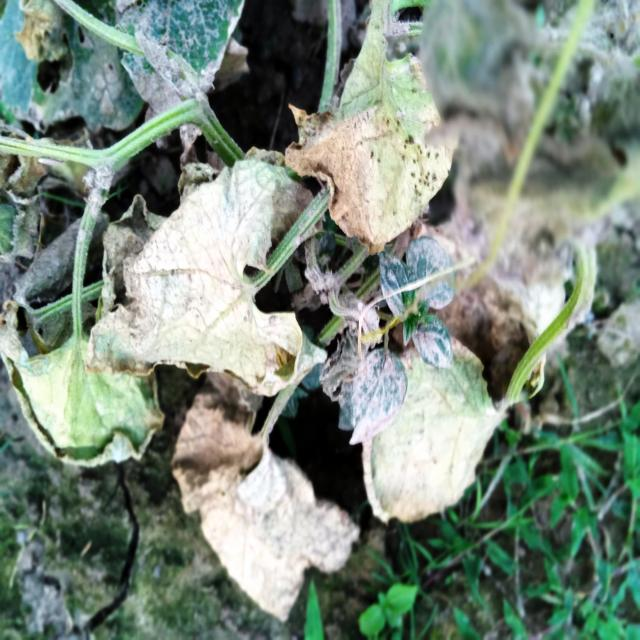Bacterial-Wilt: (84, 122, 330, 390), (282, 1, 461, 252), (0, 293, 167, 470)
